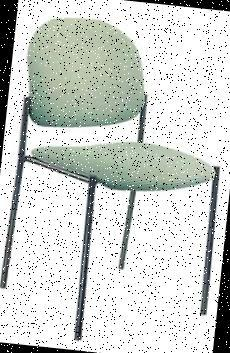Silla: (1, 16, 229, 352)
